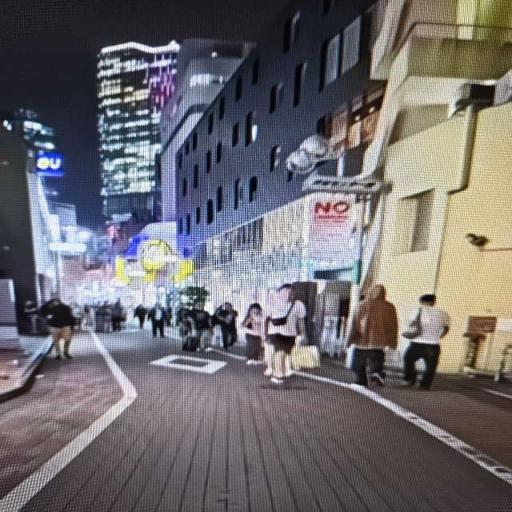lane: (24, 334, 511, 511)
person: (348, 285, 398, 386), (404, 295, 449, 390), (264, 284, 306, 384), (40, 298, 75, 359), (242, 303, 263, 364), (213, 302, 237, 349), (189, 308, 211, 349), (180, 308, 200, 351), (148, 304, 168, 337), (177, 307, 191, 342), (24, 301, 38, 334), (97, 301, 111, 332), (112, 299, 125, 331), (134, 304, 147, 328), (82, 306, 95, 330), (72, 304, 82, 330)
